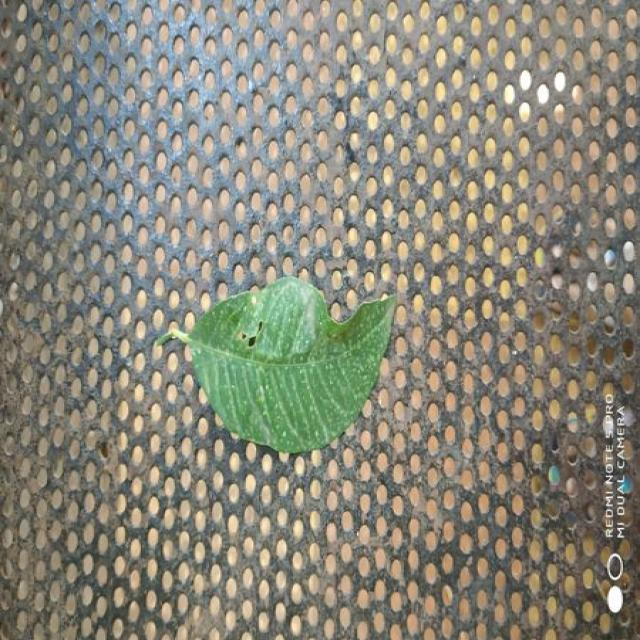citron canker: (157, 276, 395, 453)
